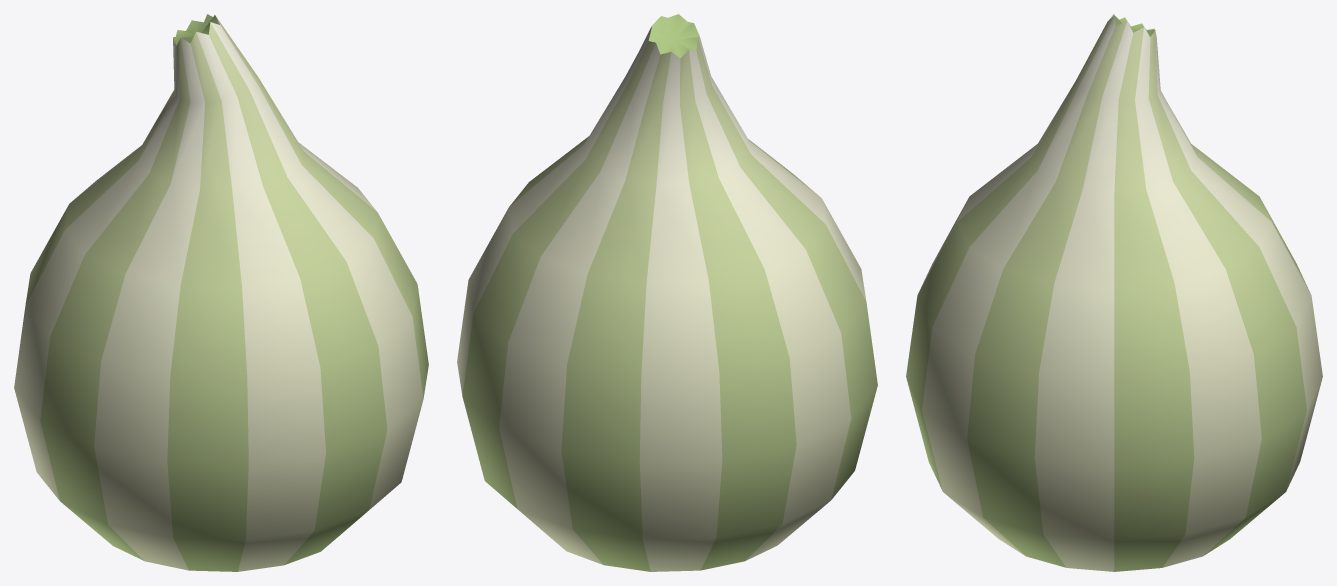
The model's file is Onion_02.glb.
The picture shows the model from 3 angles, left to right: view 1: azimuth 30°, elevation 25°; view 2: azimuth 150°, elevation 25°; view 3: azimuth 270°, elevation 25°; orthographic projection.
Parts seen in each view (by area): view 1: Onion_02; view 2: Onion_02; view 3: Onion_02.
Boxes of the visible parts, x1,y1,x2,y2 form: Onion_02: (14,14,428,571); Onion_02: (457,14,877,571); Onion_02: (906,14,1322,571).
Size of the model in its own units: 0.1547 by 0.2177 by 0.1547.
Materials: 1 (1 with a texture image).
